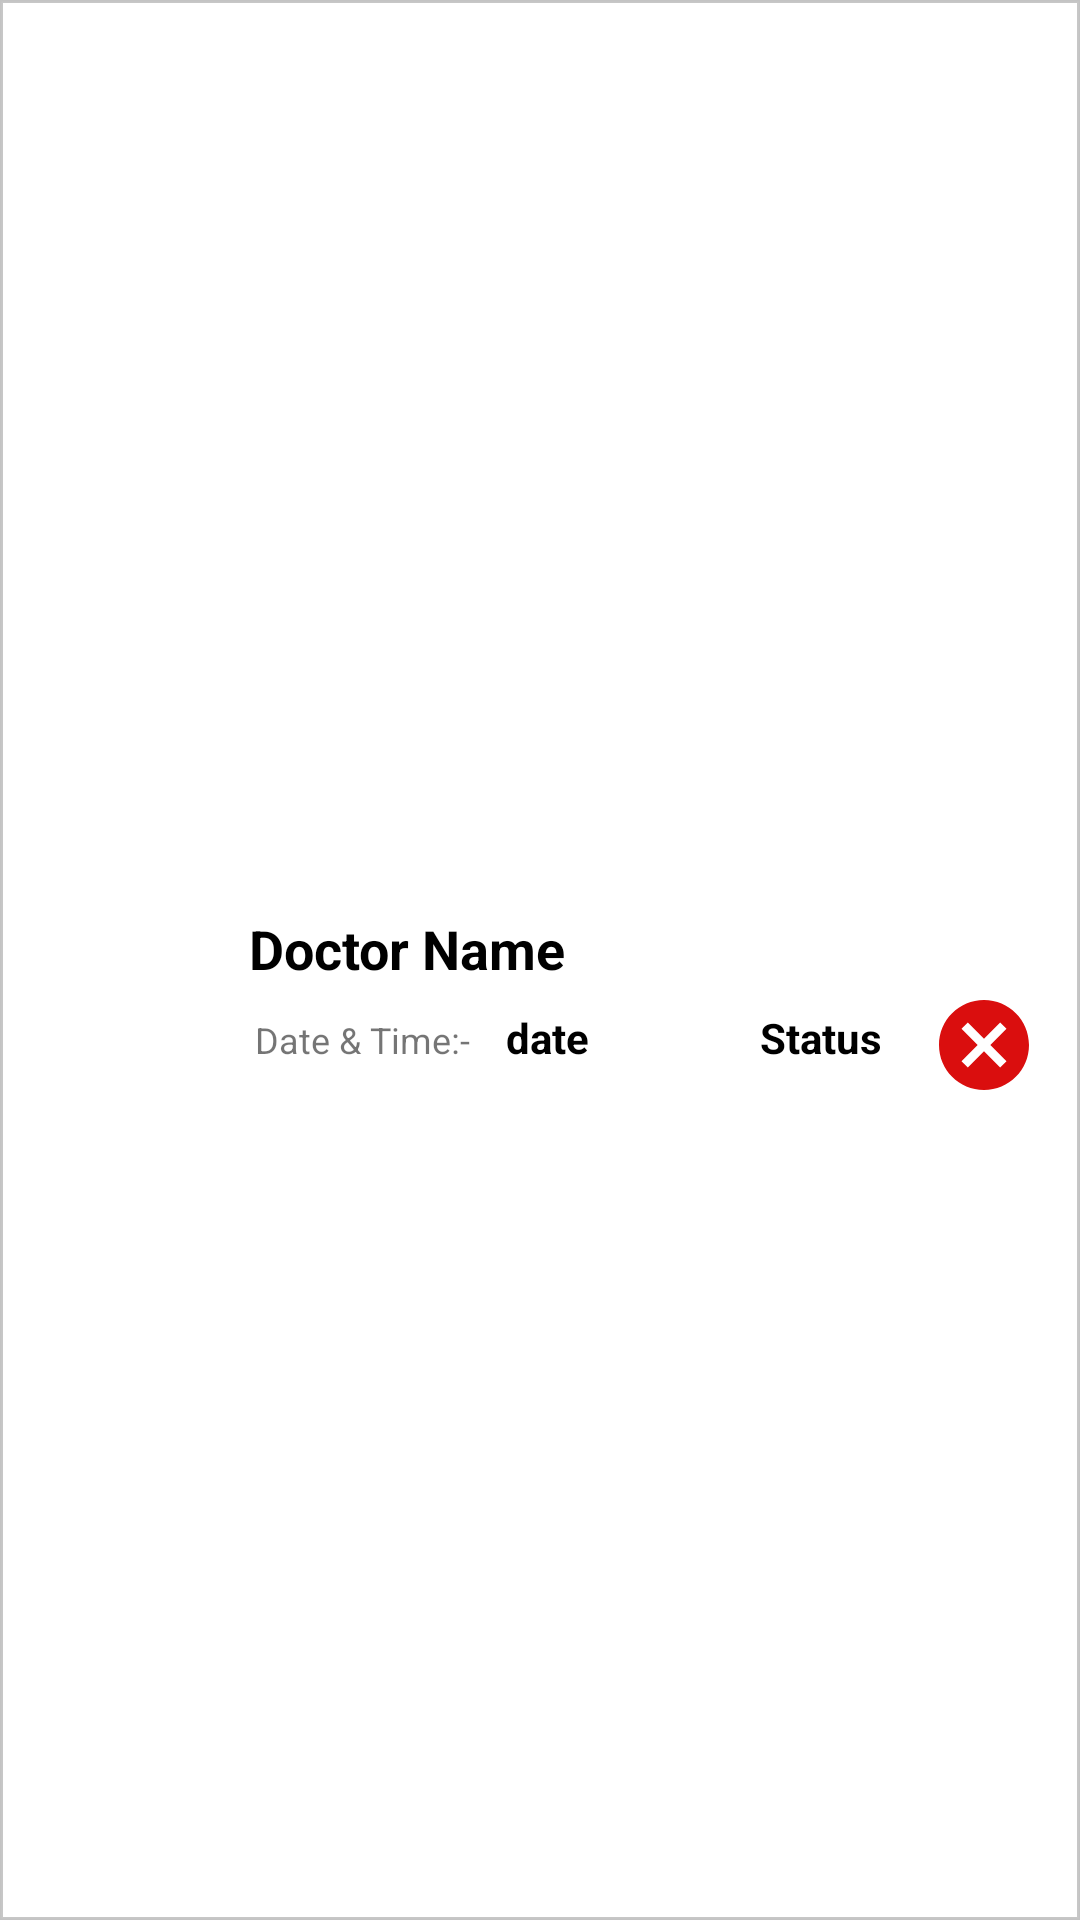

Where to tap for icons on this 1080x1920 app screen, as [x,y]:
cancel: [984,1045]
